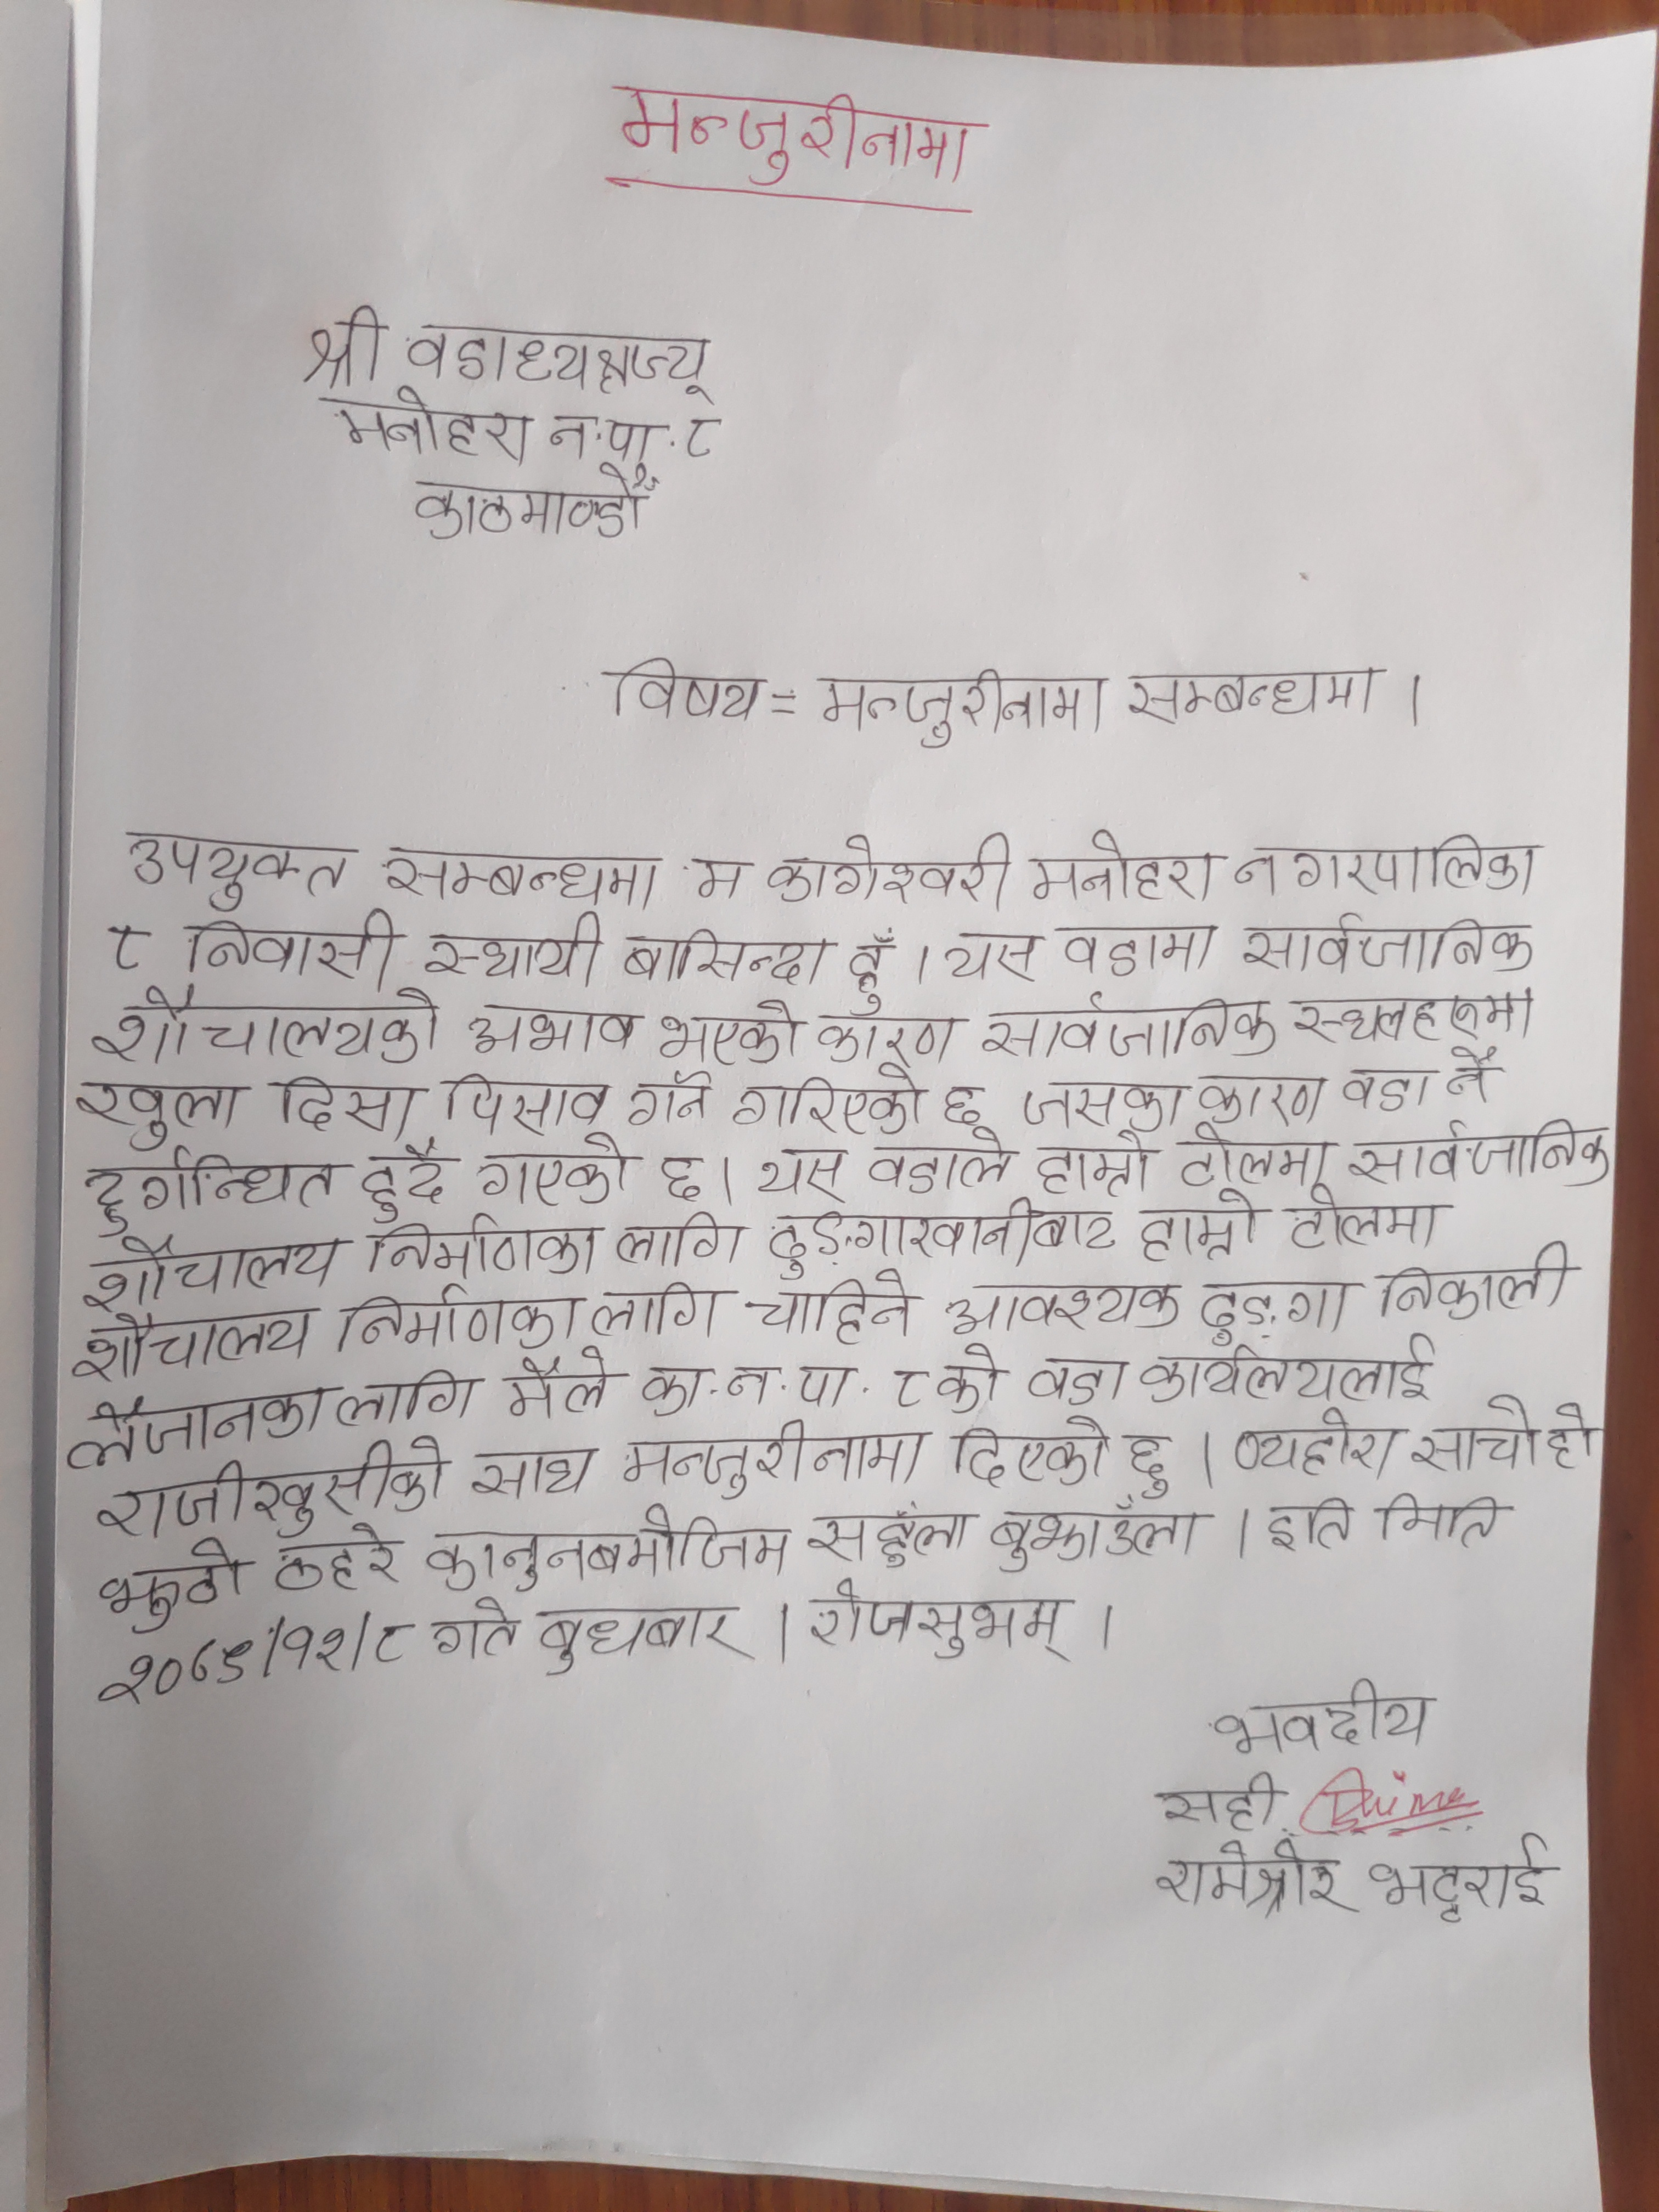text: (606, 77, 981, 193), (425, 1503, 791, 1592), (85, 1615, 410, 1710), (85, 988, 441, 1073), (401, 320, 716, 406), (620, 1414, 931, 1500), (755, 1204, 1124, 1275), (803, 1576, 1072, 1663), (812, 669, 1105, 747), (73, 1150, 345, 1233), (112, 822, 356, 914), (1134, 1343, 1466, 1411), (59, 1385, 329, 1467), (981, 991, 1288, 1062), (1230, 914, 1547, 981), (251, 1433, 455, 1536), (1227, 833, 1551, 895), (70, 1305, 315, 1385), (404, 462, 655, 538), (1344, 1115, 1617, 1184), (983, 1487, 1201, 1575), (769, 831, 1021, 906), (77, 1237, 343, 1305), (1213, 1679, 1434, 1759), (331, 383, 537, 467), (1370, 1831, 1558, 1921), (383, 845, 659, 906), (941, 1271, 1187, 1339), (1121, 658, 1384, 721), (179, 916, 404, 988), (528, 1602, 749, 1674), (335, 1287, 586, 1350), (425, 907, 610, 989), (96, 1536, 256, 1630), (1025, 831, 1220, 907), (1286, 984, 1544, 1042), (1384, 1245, 1577, 1322), (366, 1224, 606, 1285), (1154, 1843, 1347, 1918), (615, 923, 835, 988), (730, 1068, 931, 1137), (746, 1271, 920, 1348), (946, 1418, 1124, 1489), (1195, 1270, 1356, 1348), (70, 1078, 254, 1146), (606, 651, 762, 732), (1014, 1064, 1199, 1130), (1227, 1411, 1406, 1479), (1290, 1183, 1446, 1259), (96, 1463, 254, 1538), (634, 1359, 859, 1411), (471, 1134, 636, 1204), (437, 1071, 613, 1134), (464, 1001, 640, 1061), (803, 1501, 969, 1564), (270, 1529, 418, 1599), (1046, 920, 1223, 977), (1173, 1130, 1337, 1191), (816, 1000, 962, 1068), (333, 1367, 481, 1433), (1136, 1191, 1269, 1264), (657, 1000, 807, 1064), (281, 1073, 422, 1141), (1148, 1770, 1290, 1838), (854, 1137, 1018, 1195), (465, 1440, 599, 1510), (606, 1211, 751, 1275), (1371, 1484, 1507, 1550), (1410, 1400, 1539, 1470), (586, 1280, 727, 1343), (1195, 1068, 1333, 1130), (498, 1348, 617, 1418), (301, 303, 390, 394), (356, 1148, 460, 1223), (545, 408, 676, 467), (1030, 1134, 1155, 1195), (427, 1590, 526, 1660), (943, 921, 1046, 988), (1258, 1491, 1354, 1555), (1026, 1346, 1127, 1407), (749, 1141, 852, 1198), (931, 1345, 1012, 1414), (620, 1073, 720, 1129), (1335, 1061, 1432, 1115), (835, 930, 892, 1014), (1434, 1040, 1504, 1108), (1121, 1432, 1175, 1507), (1542, 1402, 1595, 1470), (678, 855, 748, 906), (647, 1153, 708, 1204), (101, 918, 153, 975), (671, 408, 720, 467), (880, 1359, 929, 1407), (939, 1080, 985, 1127)
